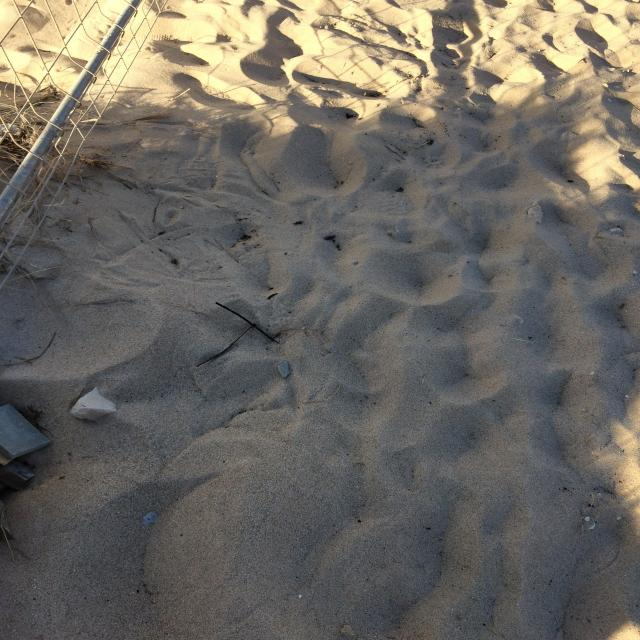Other plastic bottle: (196, 302, 279, 367)
